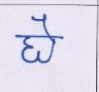au_matra: (34, 14, 63, 63)
